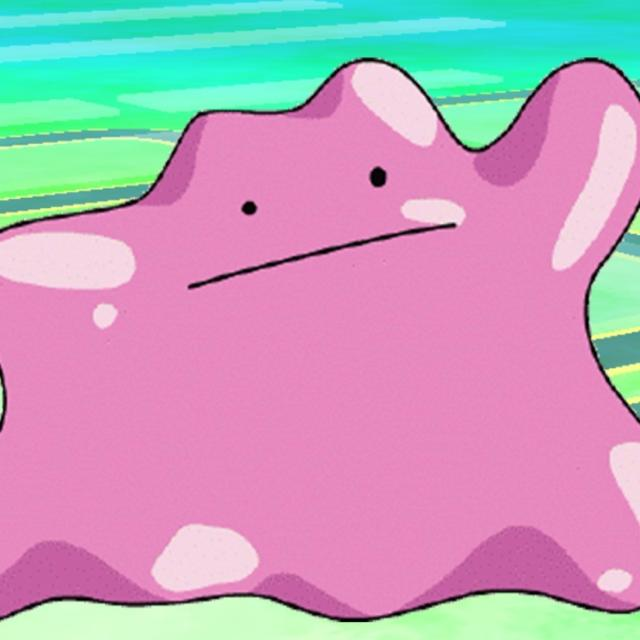Ditto: (0, 50, 636, 610)
